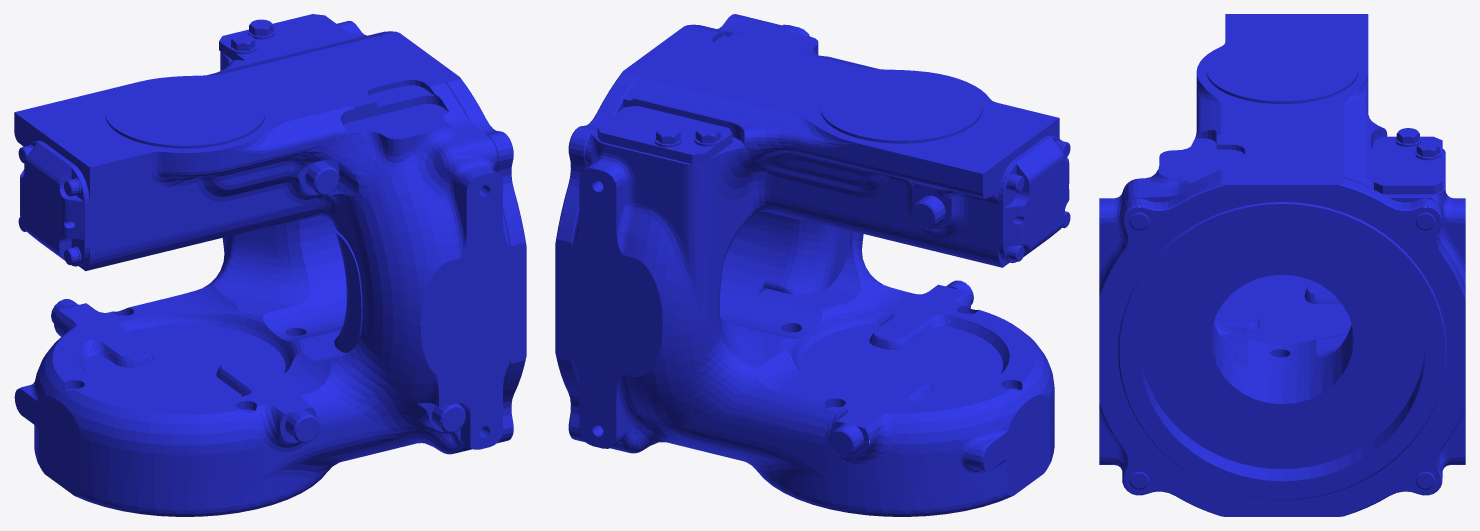
3 renders of one model, left to right at view 1: azimuth 30°, elevation 25°; view 2: azimuth 150°, elevation 25°; view 3: azimuth 270°, elevation 25°, orthographic. The views are drawn at different scales.
Visible parts, largest first — view 1: /Link5/Link5-mesh/0; view 2: /Link5/Link5-mesh/0; view 3: /Link5/Link5-mesh/0.
Part boxes in pixels (left/top/right/bottom): /Link5/Link5-mesh/0: left=14, top=14, right=526, bottom=516; /Link5/Link5-mesh/0: left=555, top=14, right=1070, bottom=516; /Link5/Link5-mesh/0: left=1099, top=14, right=1465, bottom=516.
Size of the model in its own units: 0.1488 by 0.129 by 0.128.
